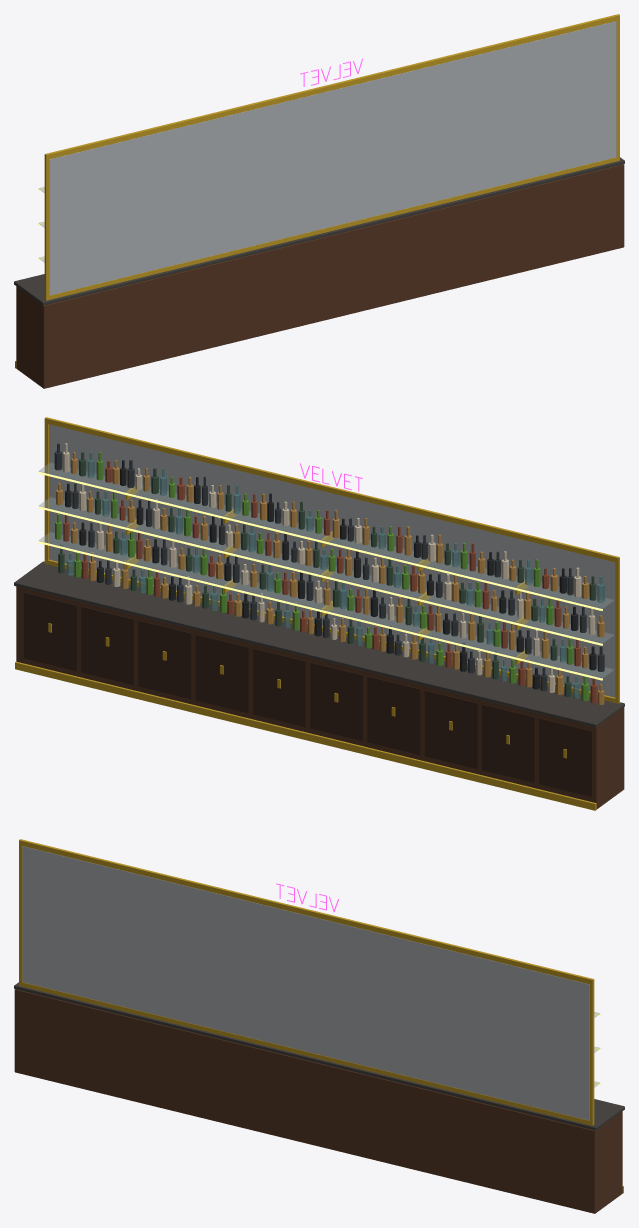
Rendered from prop_ah_back_bar.glb.
3 renders of one model, top to bottom at view 1: azimuth 30°, elevation 25°; view 2: azimuth 150°, elevation 25°; view 3: azimuth 330°, elevation 25°, orthographic.
Parts seen in each view (by area): view 1: Body; view 2: Body, Bottles; view 3: Body.
Part boxes in pixels (x1=…): Body: x1=14, y1=14, x2=624, y2=388; Body: x1=14, y1=417, x2=624, y2=810; Bottles: x1=54, y1=443, x2=604, y2=704; Body: x1=14, y1=839, x2=624, y2=1213.
Size of the model in its own units: 7.02 by 2.89 by 0.61.
